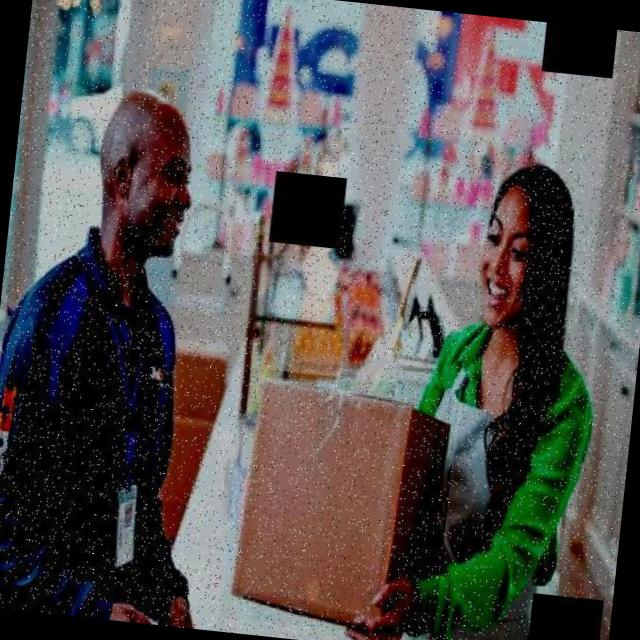box: (220, 367, 459, 640)
